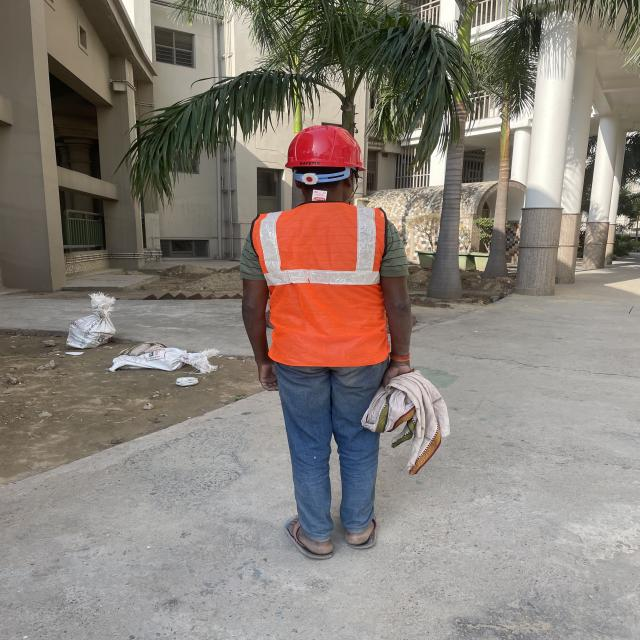safe: (244, 126, 410, 557)
